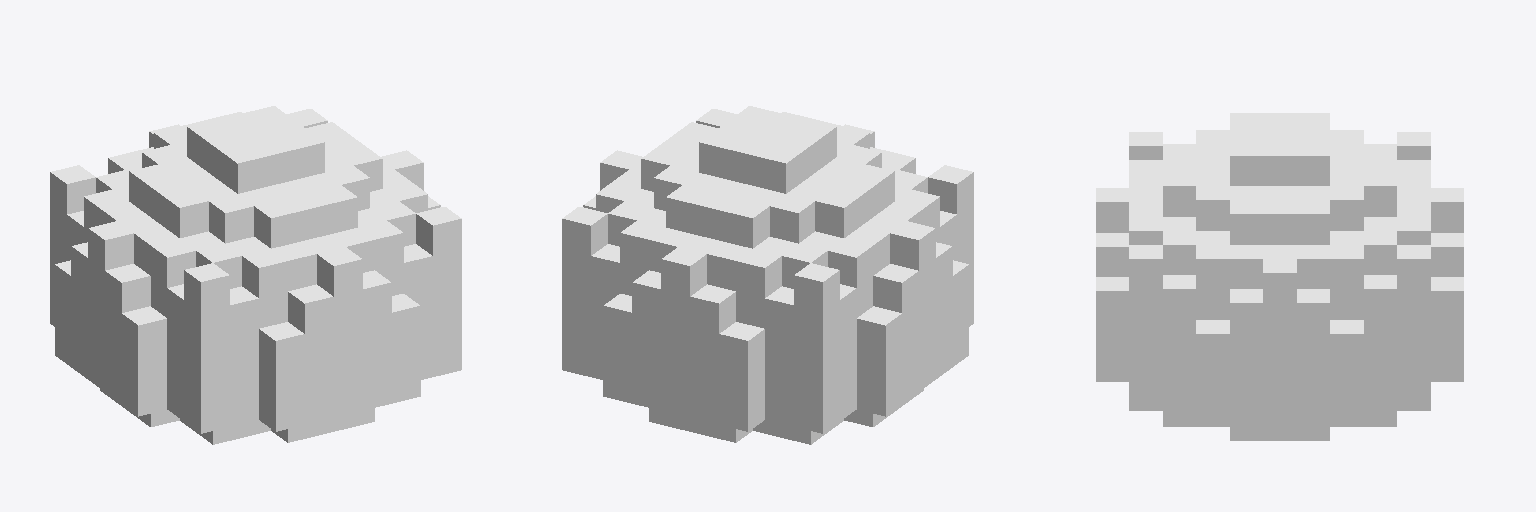
Rendered from cabbage.obj.
3 views of the same model, side by side, from view 1: azimuth 30°, elevation 25°; view 2: azimuth 150°, elevation 25°; view 3: azimuth 270°, elevation 25° (orthographic).
Size of the model in its own units: 11 by 8 by 11.